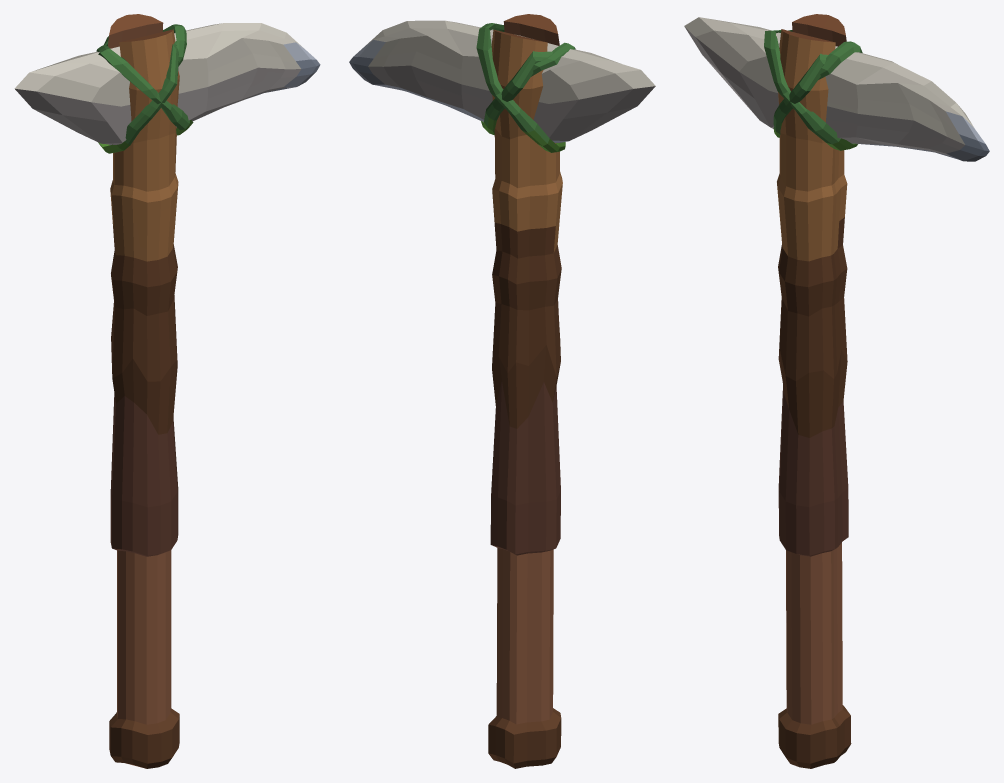
File: stone_pickaxes.glb
The picture shows the model from 3 angles, left to right: view 1: azimuth 30°, elevation 25°; view 2: azimuth 150°, elevation 25°; view 3: azimuth 330°, elevation 25°; orthographic projection.
Parts seen in each view (by area): view 1: StonePickaxe; view 2: StonePickaxe; view 3: StonePickaxe.
Part boxes in pixels (x1,y1,x2,y2): StonePickaxe: (14, 14, 320, 768); StonePickaxe: (349, 14, 655, 768); StonePickaxe: (684, 14, 989, 768).
Size of the model in its own units: 0.2631 by 0.6 by 0.067.
